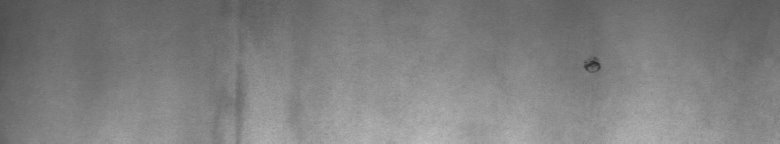fi: (580, 52, 605, 80)
